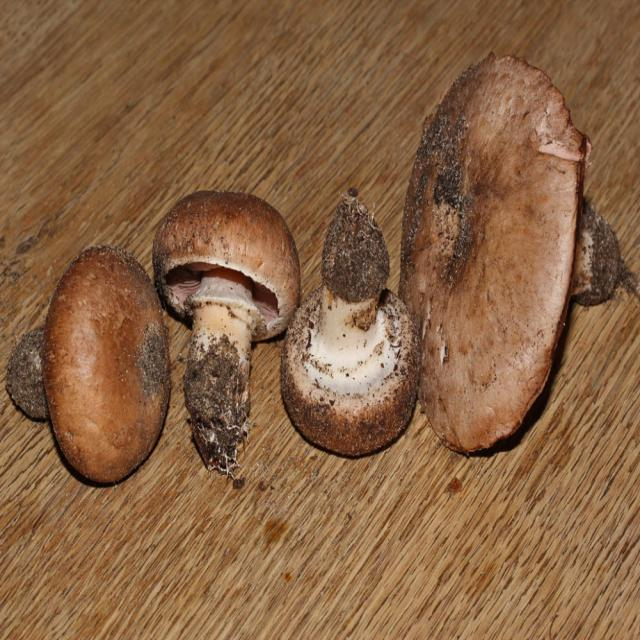Agaricus bisporus: (400, 55, 623, 454), (155, 193, 296, 475), (10, 251, 169, 490), (288, 203, 418, 455)
